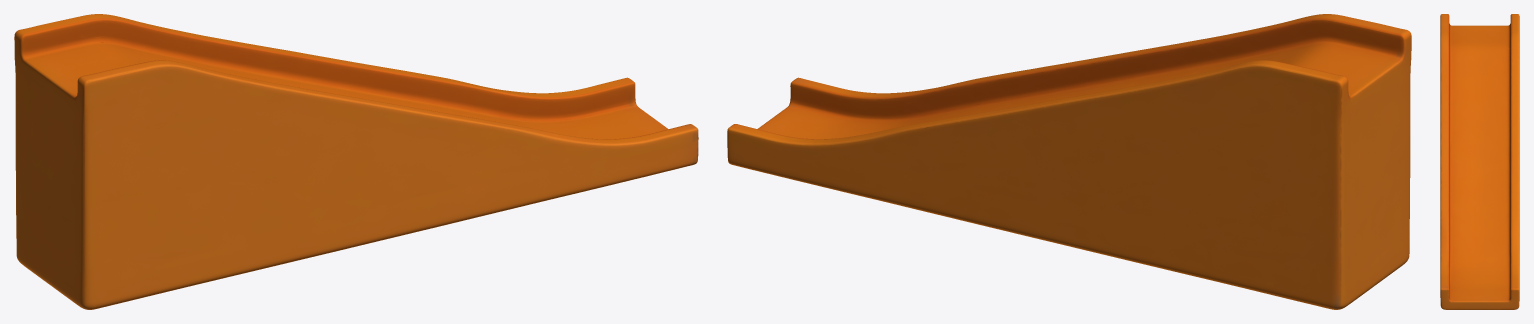
File: solid ramp.glb
The picture shows the model from 3 angles, left to right: view 1: azimuth 30°, elevation 25°; view 2: azimuth 150°, elevation 25°; view 3: azimuth 270°, elevation 25°; orthographic projection. The views are drawn at different scales.
Visible parts, largest first — view 1: material; view 2: material; view 3: material.
Boxes of the visible parts, left/top/right/bottom form: material: left=14, top=14, right=698, bottom=309; material: left=727, top=14, right=1411, bottom=309; material: left=1440, top=14, right=1519, bottom=309.
Size of the model in its own units: 1.11 by 0.4062 by 0.2233.
Materials: 1 (1 with a texture image).
